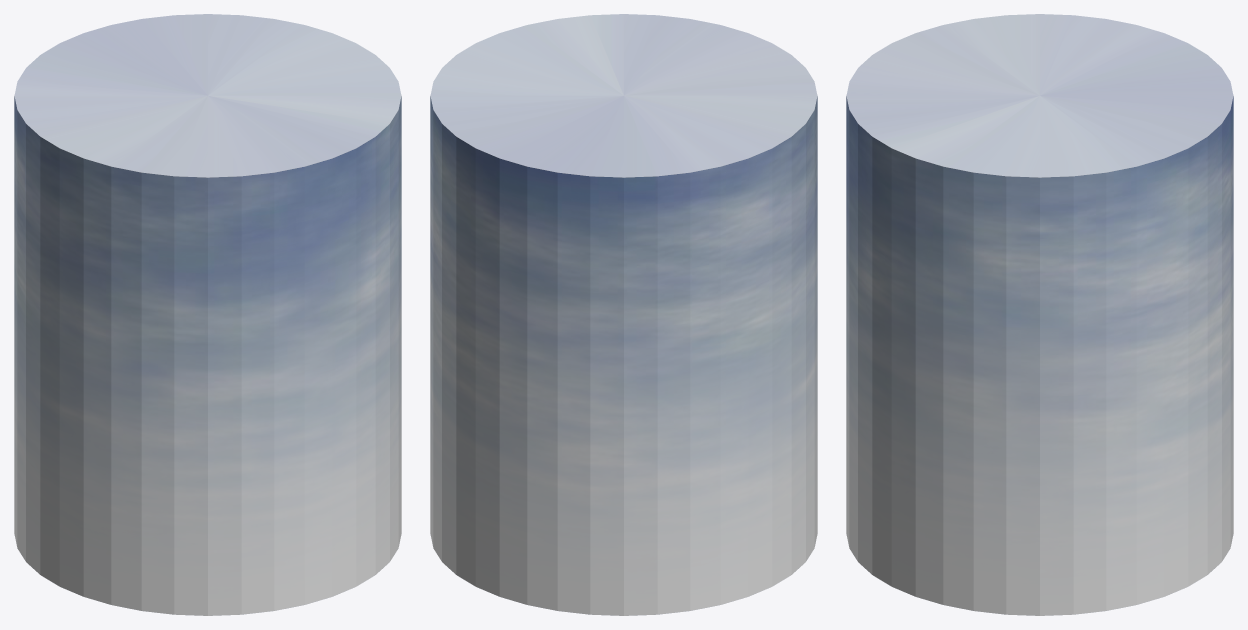
The model's file is skycylinder.obj.
3 renders of one model, left to right at view 1: azimuth 30°, elevation 25°; view 2: azimuth 150°, elevation 25°; view 3: azimuth 270°, elevation 25°, orthographic.
Parts seen in each view (by area): view 1: Zylinder; view 2: Zylinder; view 3: Zylinder.
Boxes of the visible parts, x1,y1,x2,y2 form: Zylinder: (14, 14, 401, 615); Zylinder: (430, 14, 817, 615); Zylinder: (846, 14, 1233, 615).
Size of the model in its own units: 53.33 by 66.67 by 53.33.
1 material, 1 textured.
